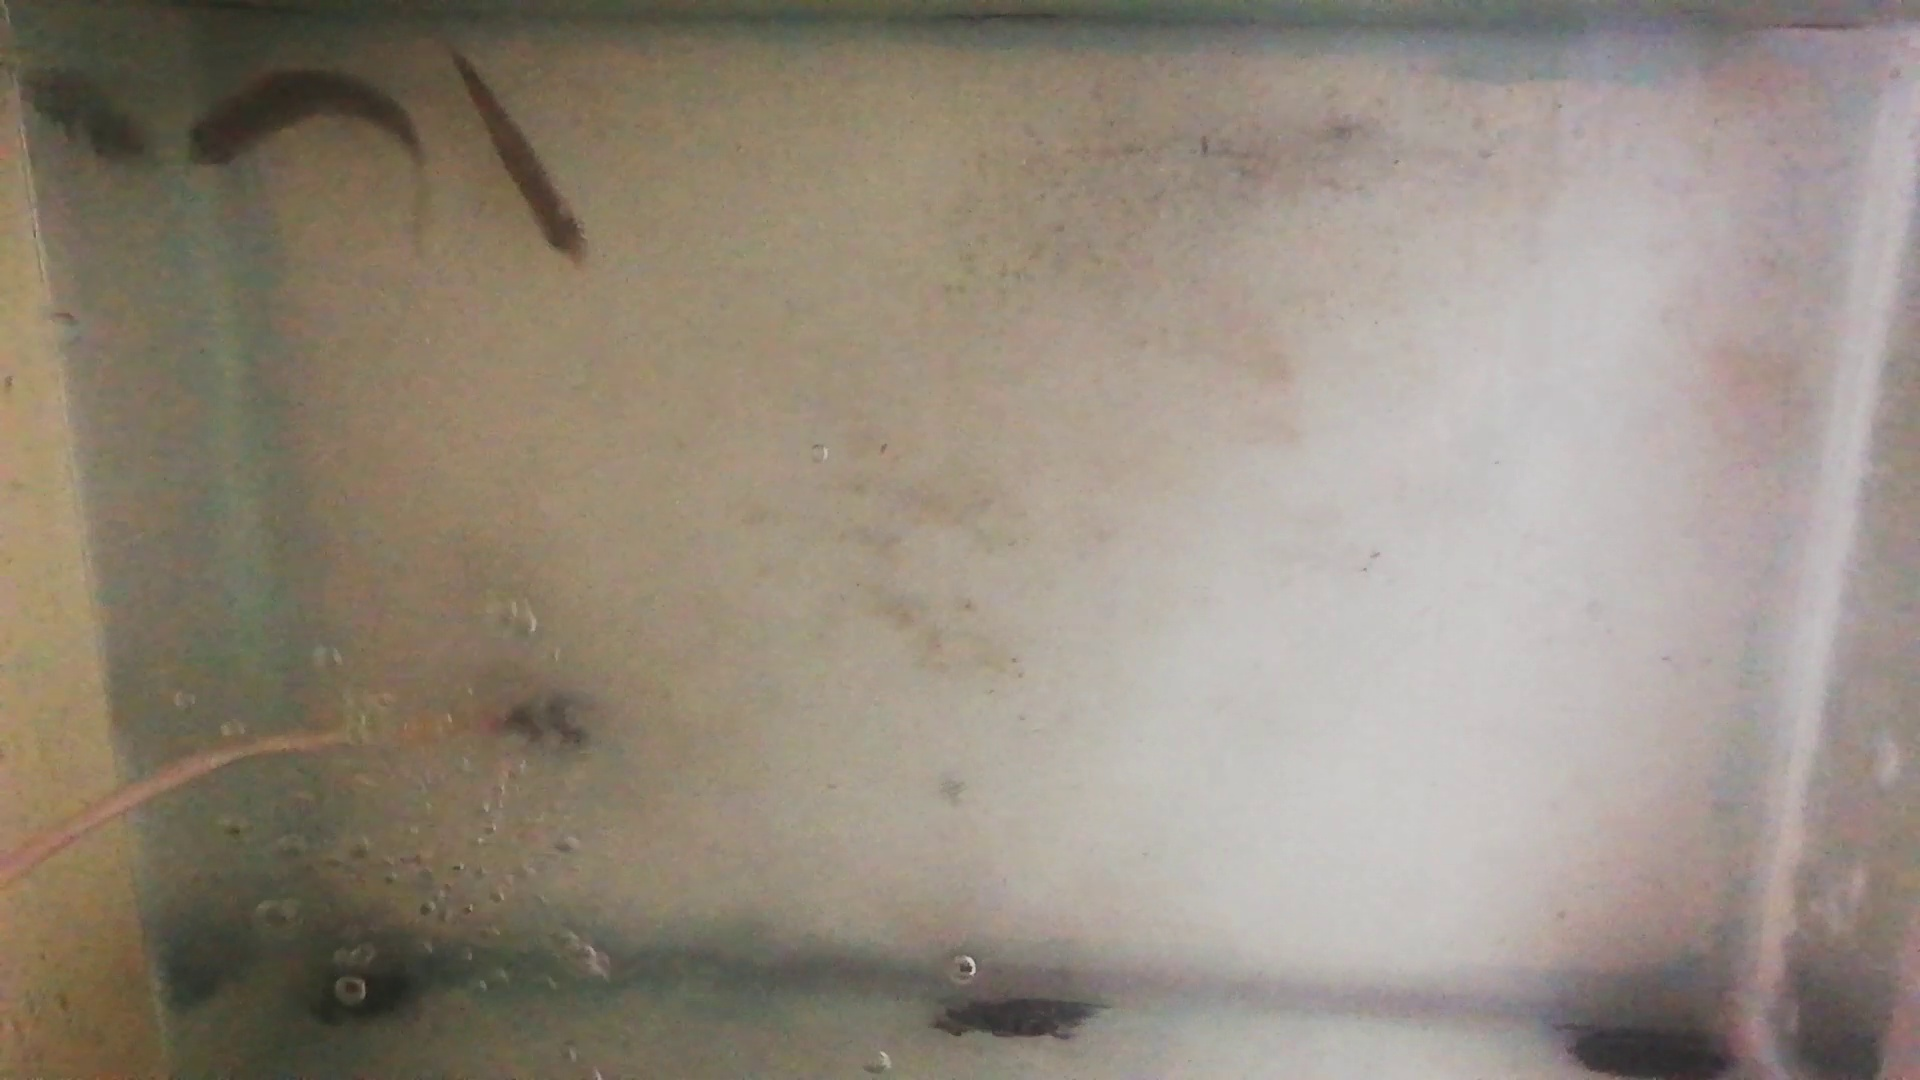fish: (451, 54, 587, 264), (185, 65, 422, 167)
